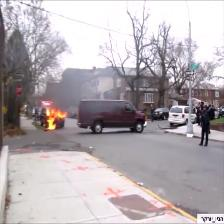fire: (40, 99, 69, 142)
